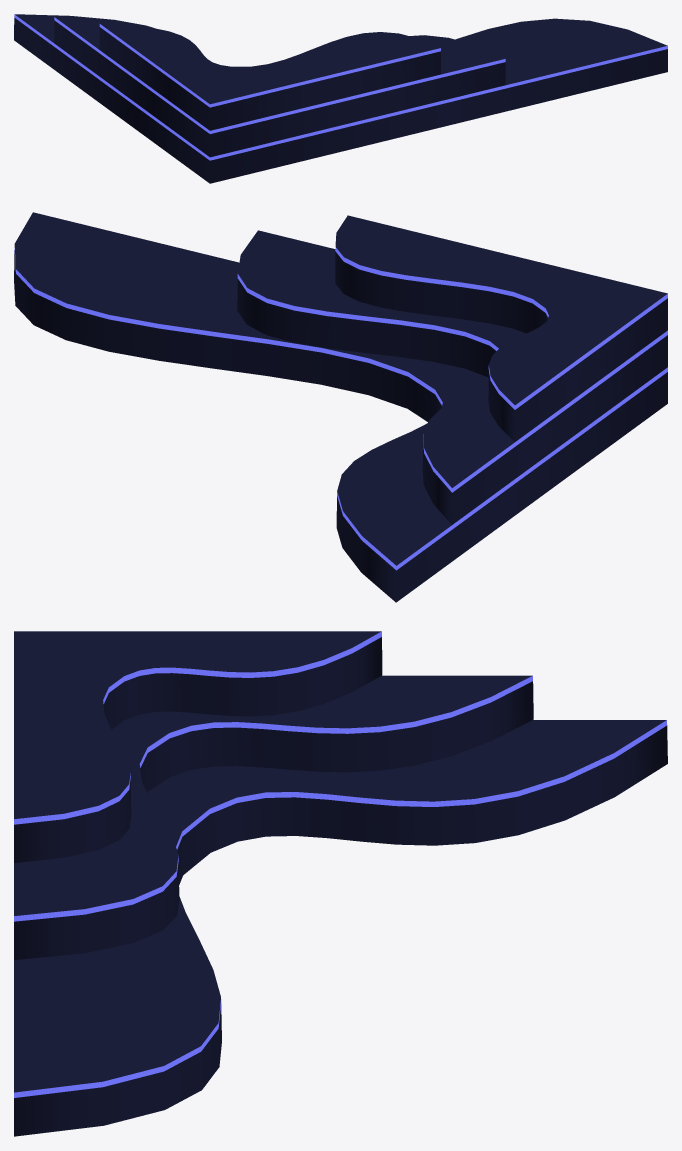
Rendered from conner_b.glb.
3 renders of one model, top to bottom at view 1: azimuth 30°, elevation 25°; view 2: azimuth 150°, elevation 25°; view 3: azimuth 270°, elevation 25°, orthographic. The views are drawn at different scales.
Parts seen in each view (by area): view 1: Base_conner_B; view 2: Base_conner_B; view 3: Base_conner_B.
Part boxes in pixels (<box>): Base_conner_B: <box>14,14,667,183</box>; Base_conner_B: <box>14,212,667,602</box>; Base_conner_B: <box>14,631,667,1136</box>.
Size of what is drawn, in the model's own units: 36.1 by 5.99 by 26.76.
